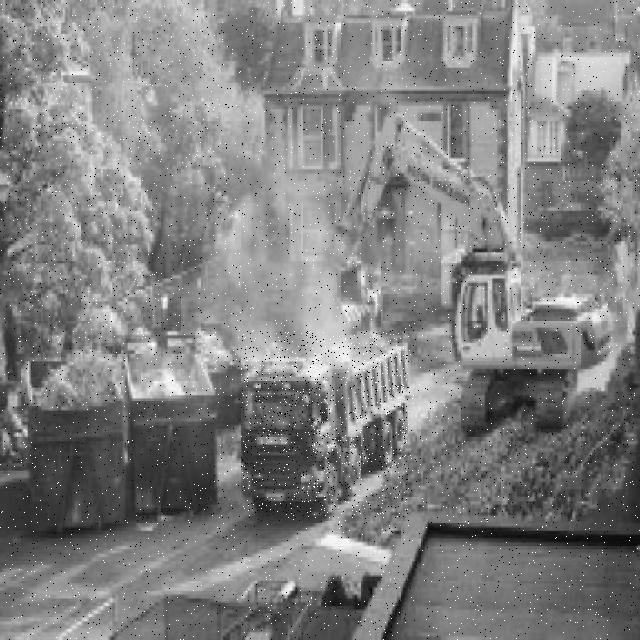Construction Equipment: (325, 112, 613, 439)
Truck- Multi-Axle: (241, 331, 409, 518)
